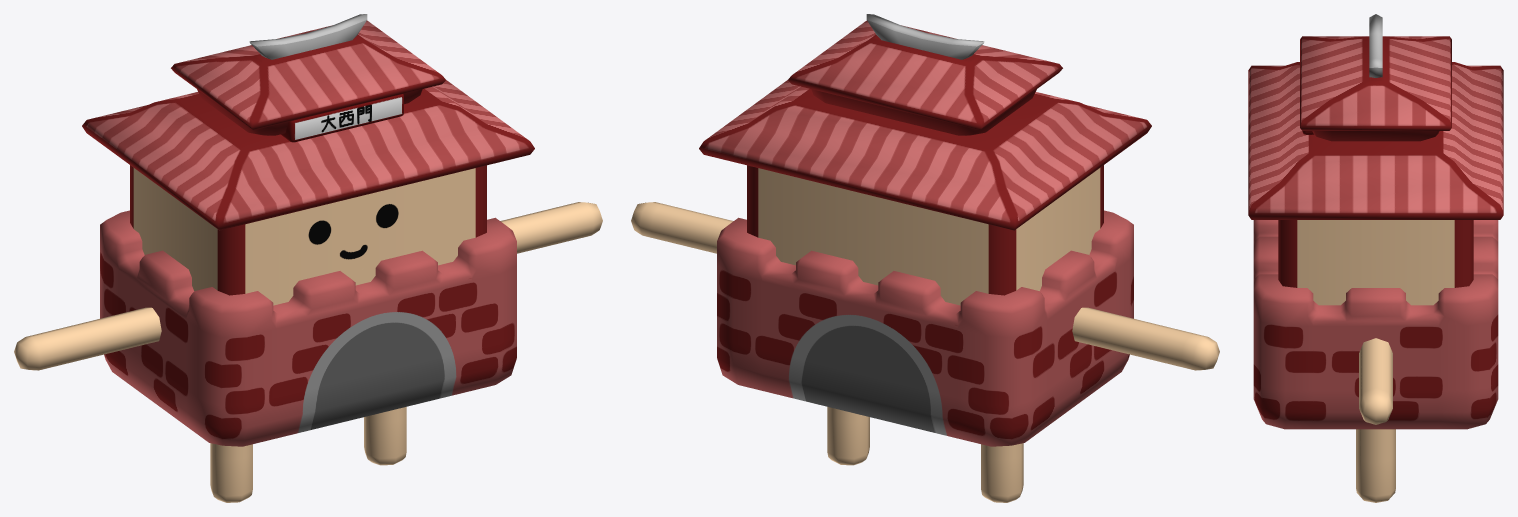
Rendered from littleTower.fbx.
The picture shows the model from 3 angles, left to right: view 1: azimuth 30°, elevation 25°; view 2: azimuth 150°, elevation 25°; view 3: azimuth 270°, elevation 25°; orthographic projection. The views are drawn at different scales.
Parts seen in each view (by area): view 1: Cube, Cube.001, Cube.008, Cube.002, Cube.004, Cube.005, Cube.010, Cube.003, Cube.009; view 2: Cube, Cube.001, Cube.008, Cube.002, Cube.004, Cube.005, Cube.003, Cube.009; view 3: Cube, Cube.001, Cube.008, Cube.002, Cube.005, Cube.004, Cube.009, Cube.003.
Part boxes in pixels (x1,y1,x2,y2): Cube: [100, 210, 516, 446]; Cube.001: [82, 80, 534, 230]; Cube.008: [130, 165, 486, 305]; Cube.002: [171, 20, 445, 130]; Cube.004: [14, 202, 602, 370]; Cube.005: [210, 407, 406, 502]; Cube.010: [281, 94, 403, 142]; Cube.003: [249, 14, 367, 59]; Cube.009: [197, 89, 422, 135]; Cube: [717, 210, 1133, 446]; Cube.001: [699, 80, 1151, 230]; Cube.008: [747, 165, 1103, 305]; Cube.002: [788, 20, 1062, 130]; Cube.004: [631, 202, 1219, 370]; Cube.005: [827, 407, 1023, 502]; Cube.003: [866, 14, 984, 59]; Cube.009: [811, 89, 1036, 135]; Cube: [1253, 220, 1498, 429]; Cube.001: [1248, 62, 1503, 219]; Cube.008: [1278, 220, 1473, 305]; Cube.002: [1300, 36, 1451, 130]; Cube.005: [1356, 429, 1395, 502]; Cube.004: [1359, 338, 1392, 424]; Cube.009: [1312, 131, 1439, 141]; Cube.003: [1369, 14, 1382, 77].
Size of the model in its own units: 215 by 158 by 86.83.
